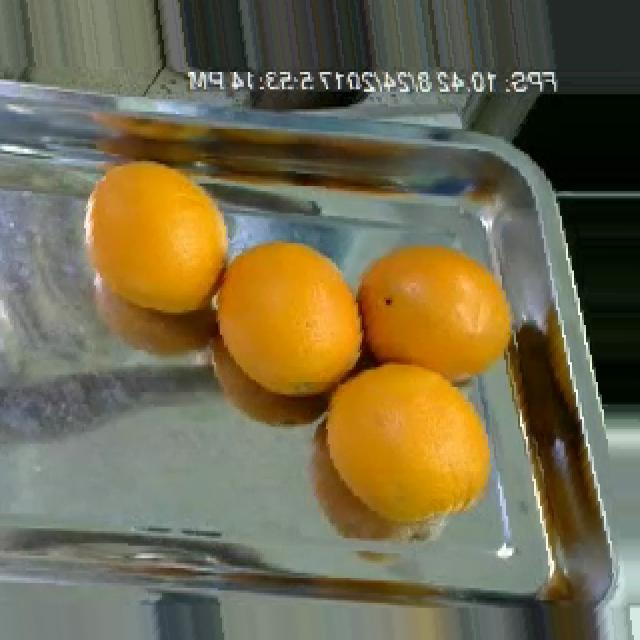Fruit: (198, 216, 384, 432), (66, 142, 252, 348), (328, 226, 520, 419), (506, 80, 640, 198)
